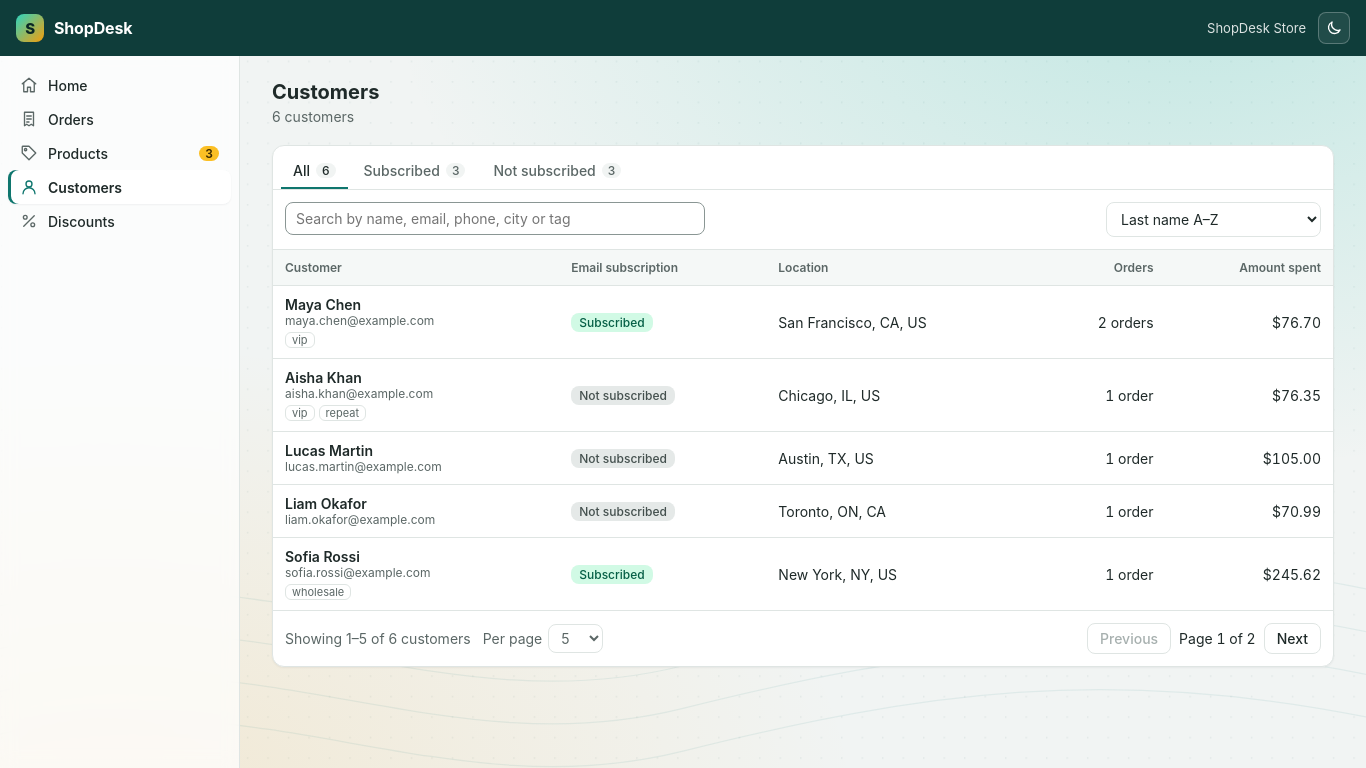
Test: CustomersPage › sorting › sorts by amount spent
Select "Amount spent: high to low" in the dropdown named "Sort customers" at (1214, 220), box [1106, 202, 1321, 237]
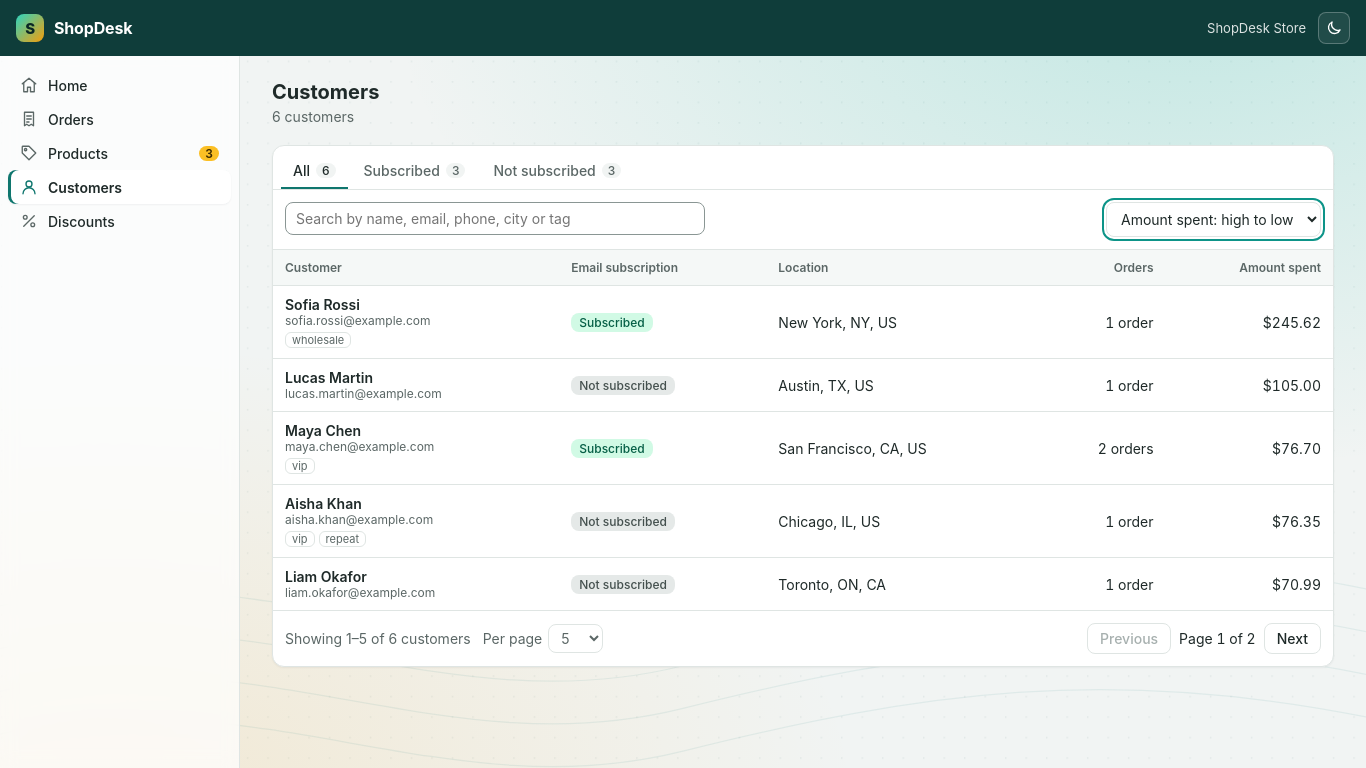
Select "Amount spent: low to high" in the dropdown named "Sort customers" at (1214, 220), box [1106, 202, 1321, 237]
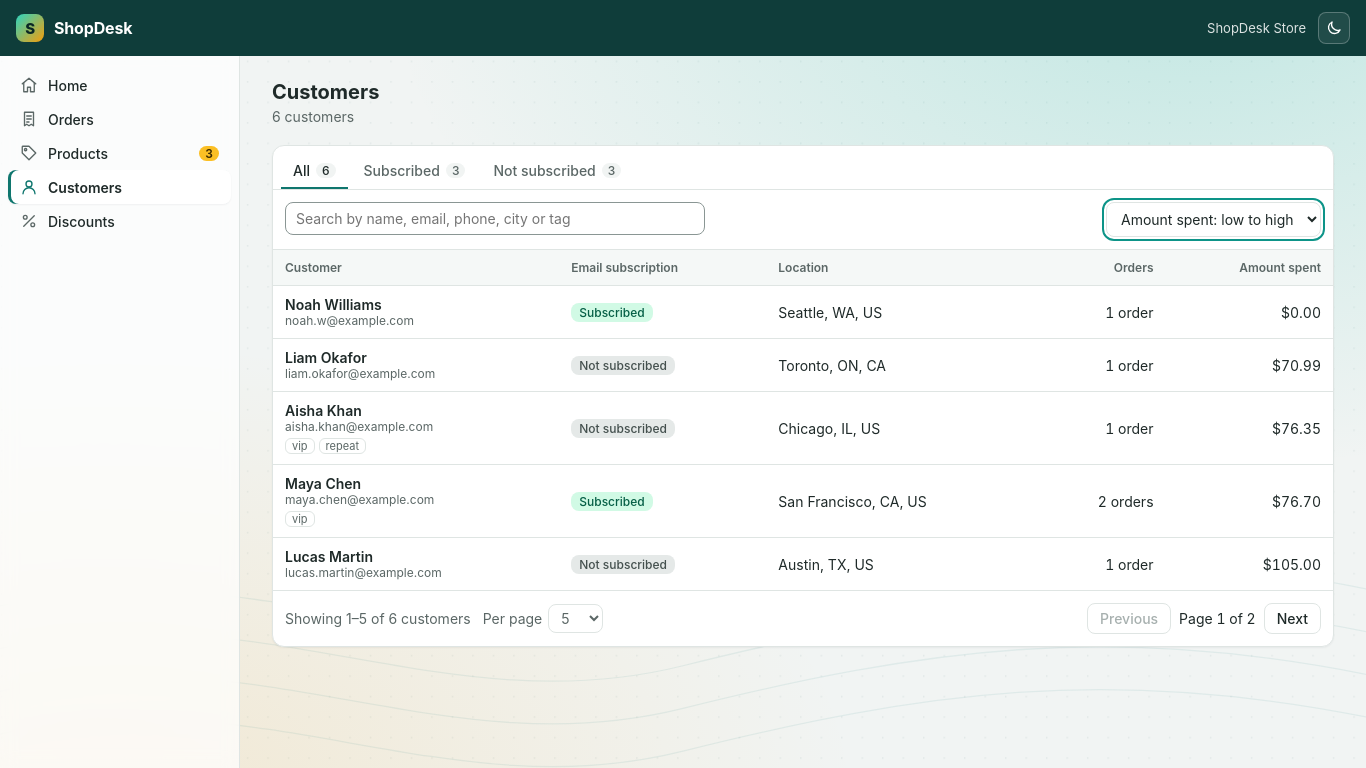
Now the link "Noah Williams" is shown, box [285, 296, 382, 313]
